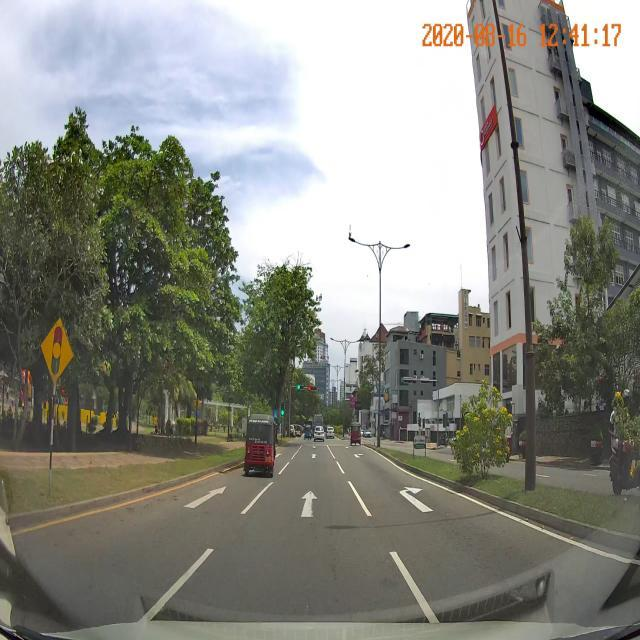forward: (227, 478, 384, 536)
